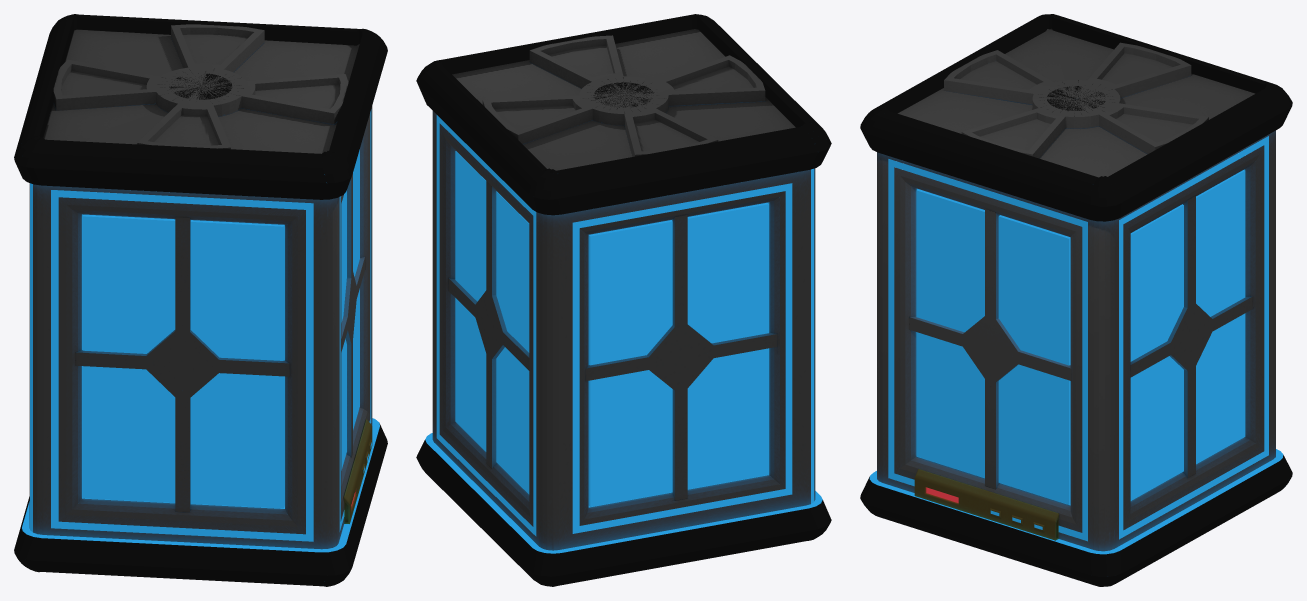
File: Sci Fi Box.glb
The picture shows the model from 3 angles, left to right: view 1: azimuth 30°, elevation 25°; view 2: azimuth 150°, elevation 25°; view 3: azimuth 270°, elevation 25°; orthographic projection. The views are drawn at different scales.
Visible parts, largest first — view 1: Cube_0; view 2: Cube_0; view 3: Cube_0.
Part boxes in pixels (x1,y1,x2,y2): Cube_0: [14, 14, 387, 586]; Cube_0: [416, 14, 831, 586]; Cube_0: [860, 14, 1292, 586].
Bounding box in the file's own units: 1.03 × 1.07 × 1.03.
5 materials, 5 textured.
